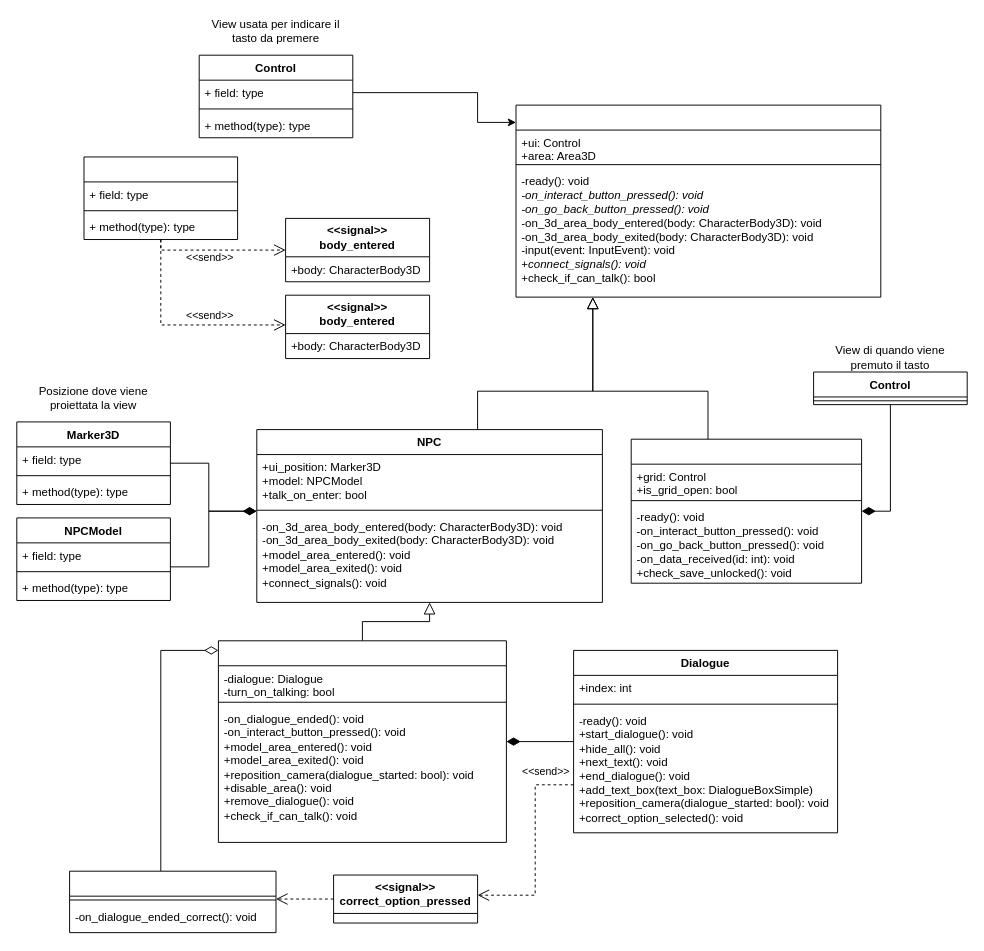
Image size: 984x951. Some labels were removed from this diagram. Each missing label, with the box of its shape:
Area3D: (83, 156, 238, 240)
InteractableArea: (515, 104, 881, 297)
InteractableSign: (630, 438, 862, 583)
NPCBehaviour: (69, 870, 276, 933)
NPCDialogue: (217, 640, 506, 842)
